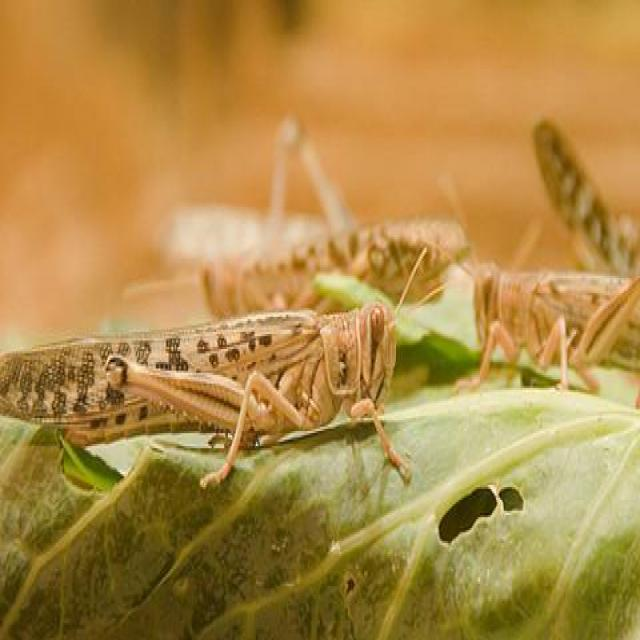ZhaMeng: (4, 279, 425, 472), (469, 228, 635, 394)
